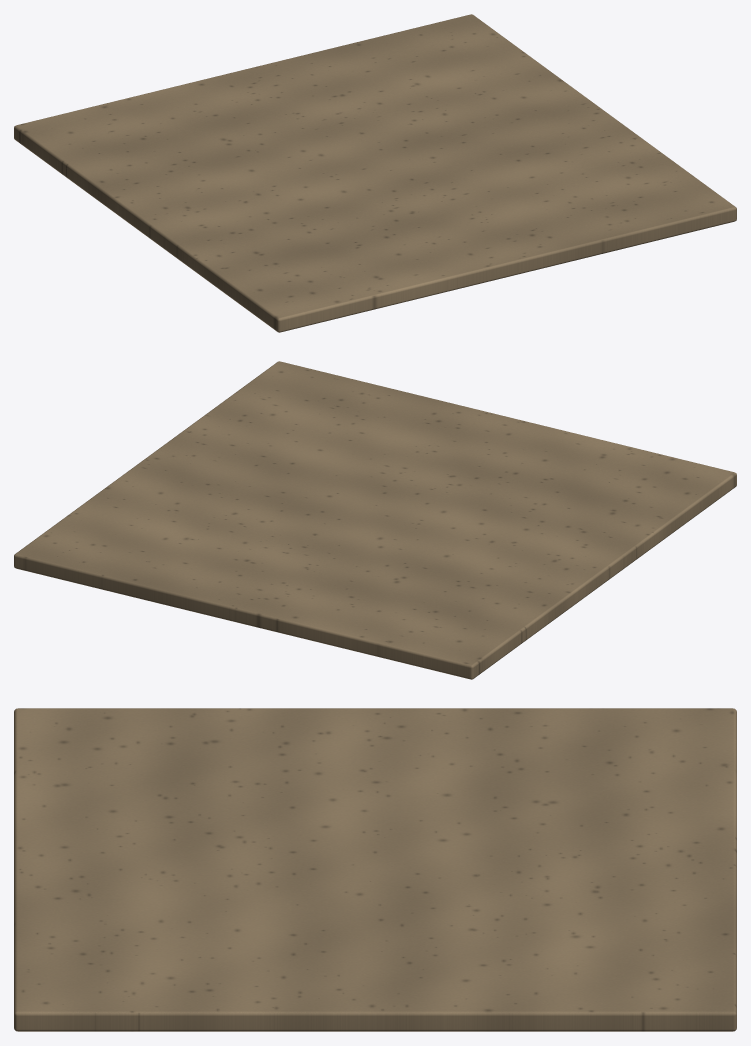
The model's file is honed-travertine-paver.glb.
3 renders of one model, top to bottom at view 1: azimuth 30°, elevation 25°; view 2: azimuth 150°, elevation 25°; view 3: azimuth 270°, elevation 25°, orthographic. The views are drawn at different scales.
Visible parts, largest first — view 1: eased-edge-natural-stone; view 2: eased-edge-natural-stone; view 3: eased-edge-natural-stone.
Part boxes in pixels (bbox=[...]): eased-edge-natural-stone: bbox=[14, 14, 736, 332]; eased-edge-natural-stone: bbox=[14, 361, 736, 679]; eased-edge-natural-stone: bbox=[14, 708, 736, 1031].
Bounding box in the file's own units: 0.988 × 0.03 × 0.988.
1 material, 1 textured.
